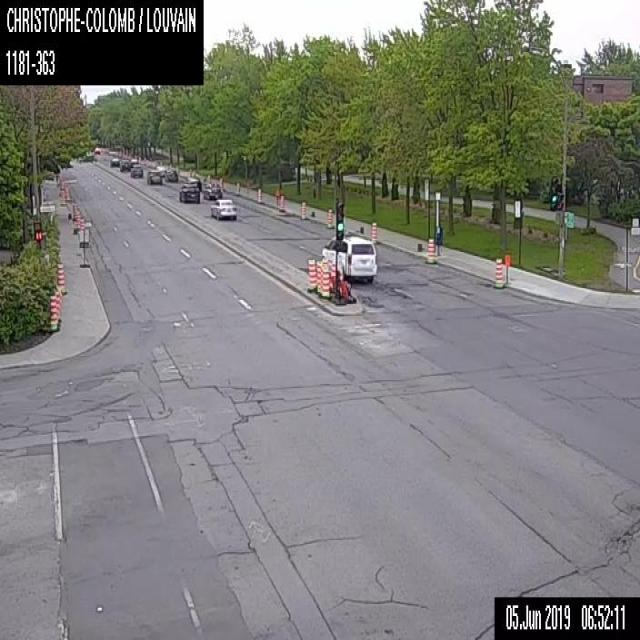construction: (77, 228, 89, 266), (319, 265, 331, 298), (49, 294, 59, 331), (493, 256, 504, 288), (306, 256, 316, 291), (314, 260, 322, 294), (426, 236, 436, 263), (56, 263, 64, 293), (504, 252, 511, 284), (54, 290, 60, 326), (369, 220, 377, 243), (325, 208, 333, 227), (57, 285, 61, 321), (330, 258, 334, 292), (274, 187, 280, 204), (278, 195, 284, 211), (300, 201, 304, 219), (72, 202, 76, 220), (76, 210, 80, 228), (257, 186, 261, 202), (65, 185, 69, 201), (60, 189, 64, 204), (79, 216, 84, 228), (322, 256, 328, 266), (219, 176, 222, 190), (236, 180, 239, 193), (207, 172, 210, 180), (192, 169, 195, 176), (189, 168, 191, 175)
vehicle: (321, 232, 377, 283), (210, 197, 237, 220), (178, 182, 200, 202), (202, 181, 222, 199), (185, 176, 201, 191), (146, 169, 162, 184), (164, 167, 177, 182), (130, 164, 142, 177), (119, 158, 130, 171), (155, 165, 166, 176), (110, 157, 118, 166), (130, 157, 138, 164), (94, 147, 100, 153)
